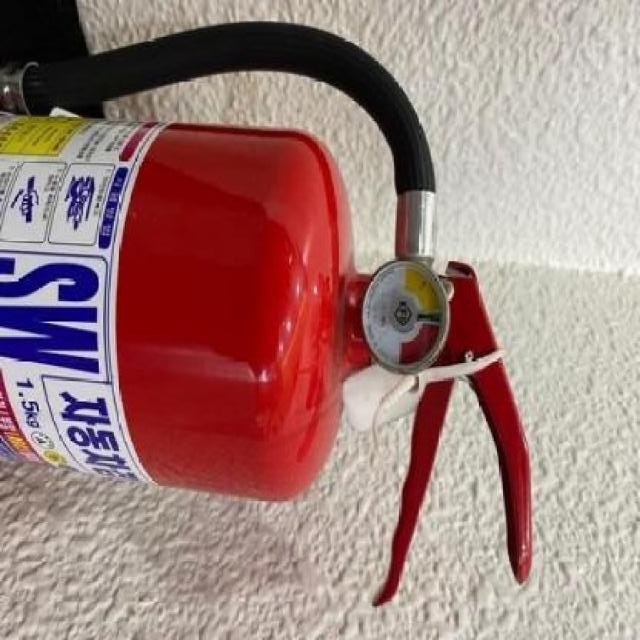fire extinguisher: (0, 19, 533, 610)
